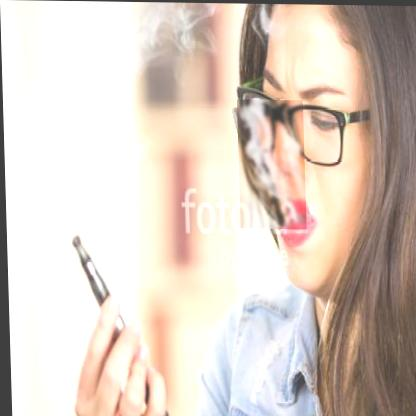smoke: (236, 99, 305, 228)
